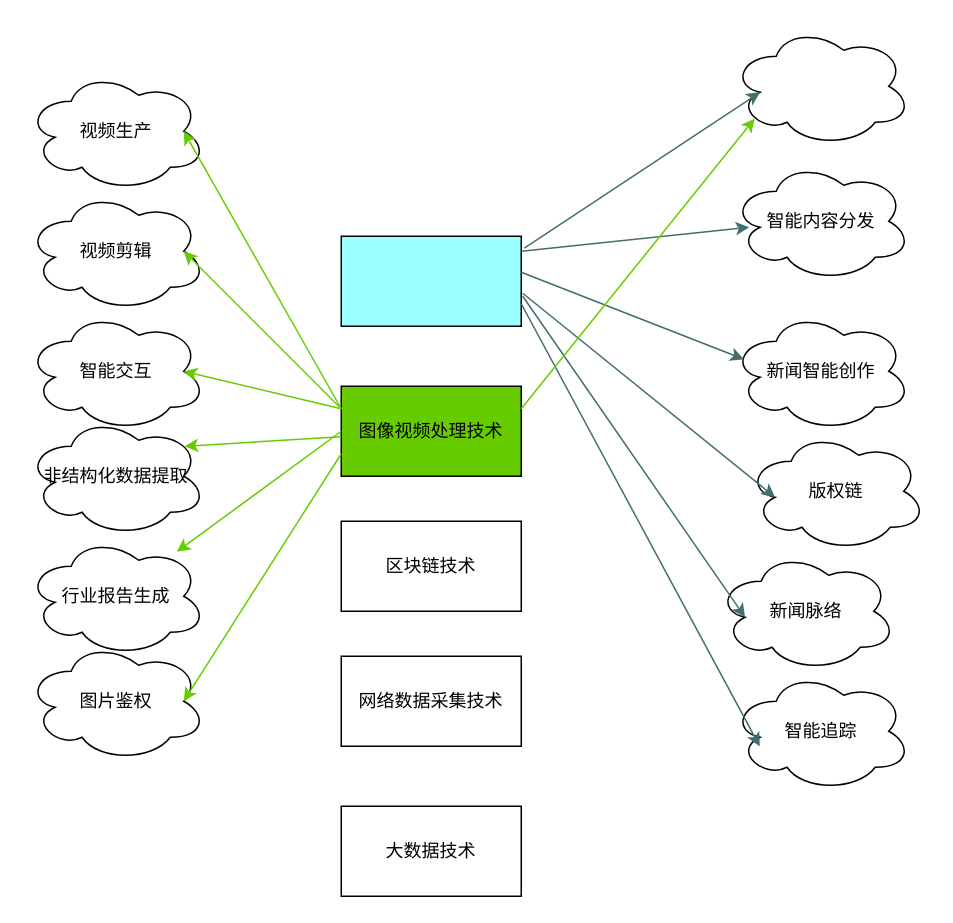
The diagram is 953 pixels wide and 923 high, and some of its shapes have lost their labels. Each missing label, with the box of its shape:
新闻智能推荐: (730, 25, 911, 146)
自然语言处理技术: (340, 235, 521, 326)
